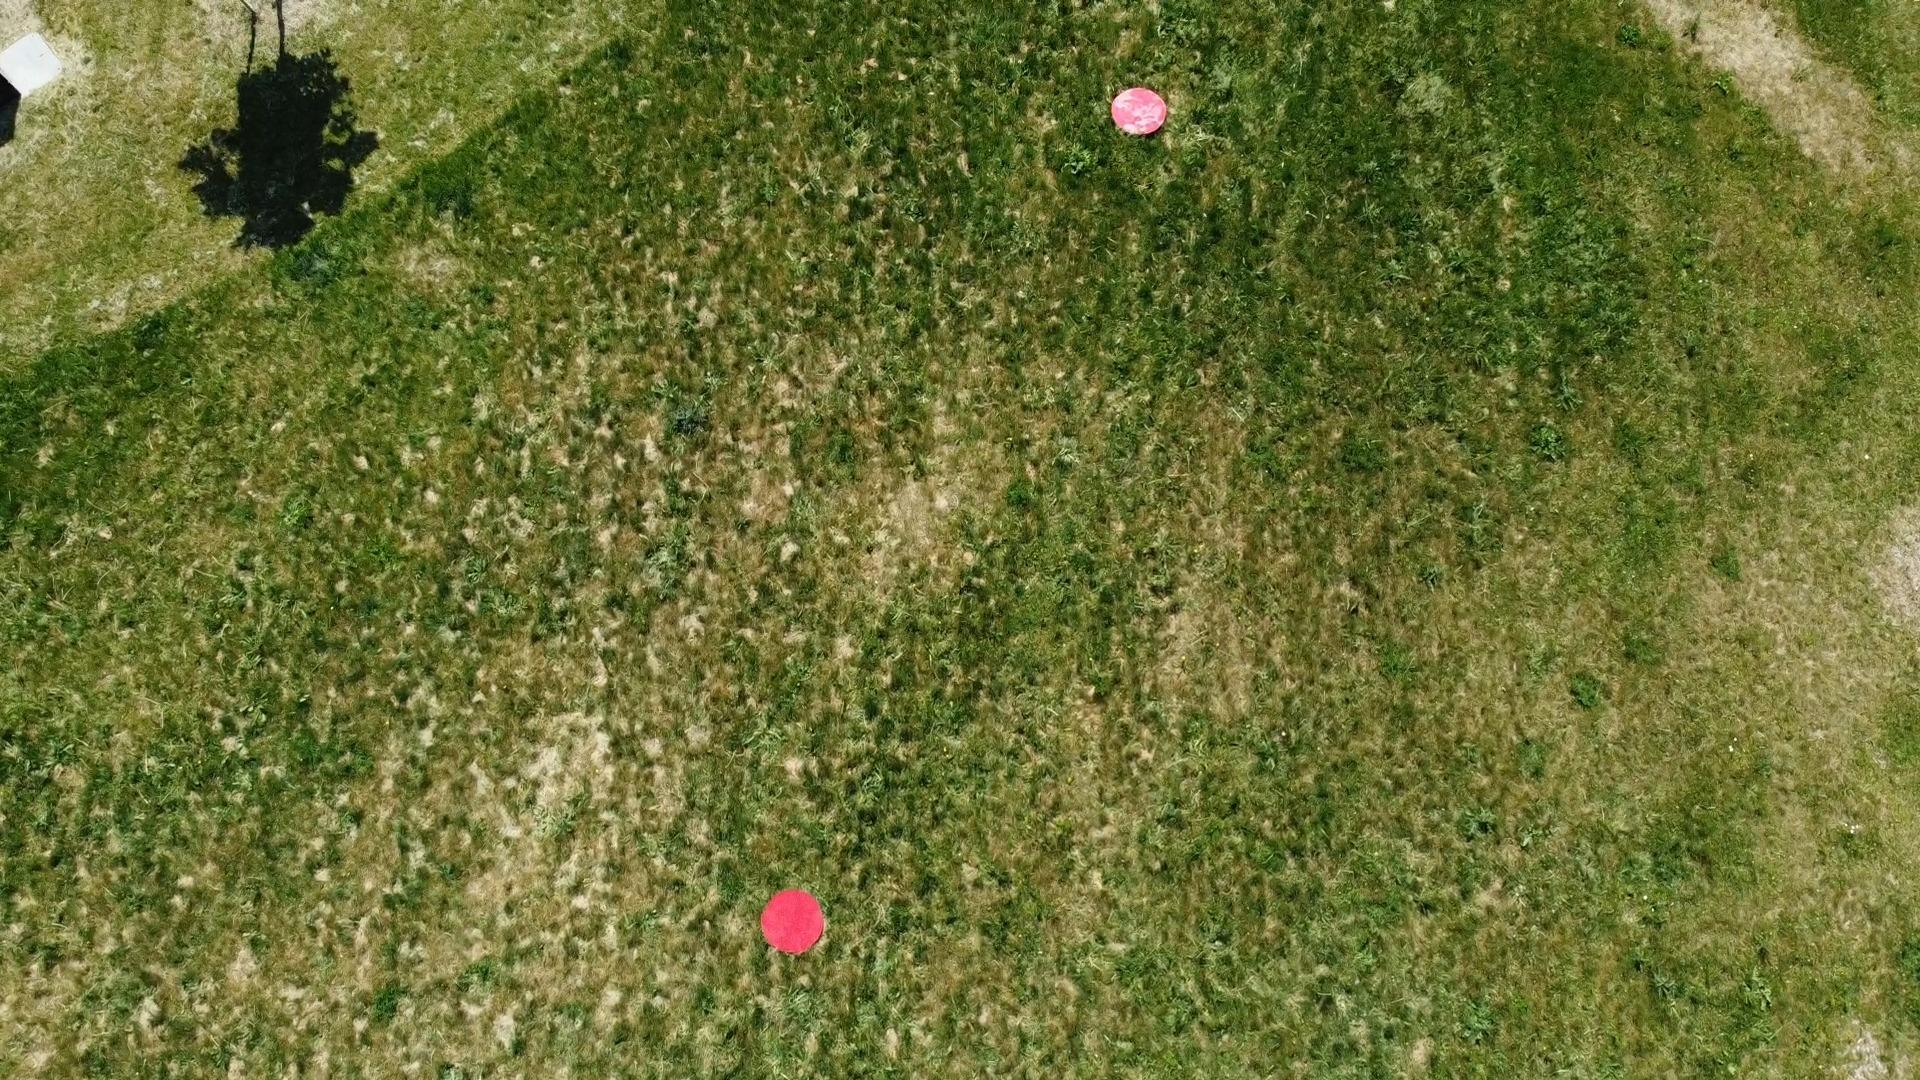Red: (758, 889, 827, 955), (1110, 82, 1171, 137)
